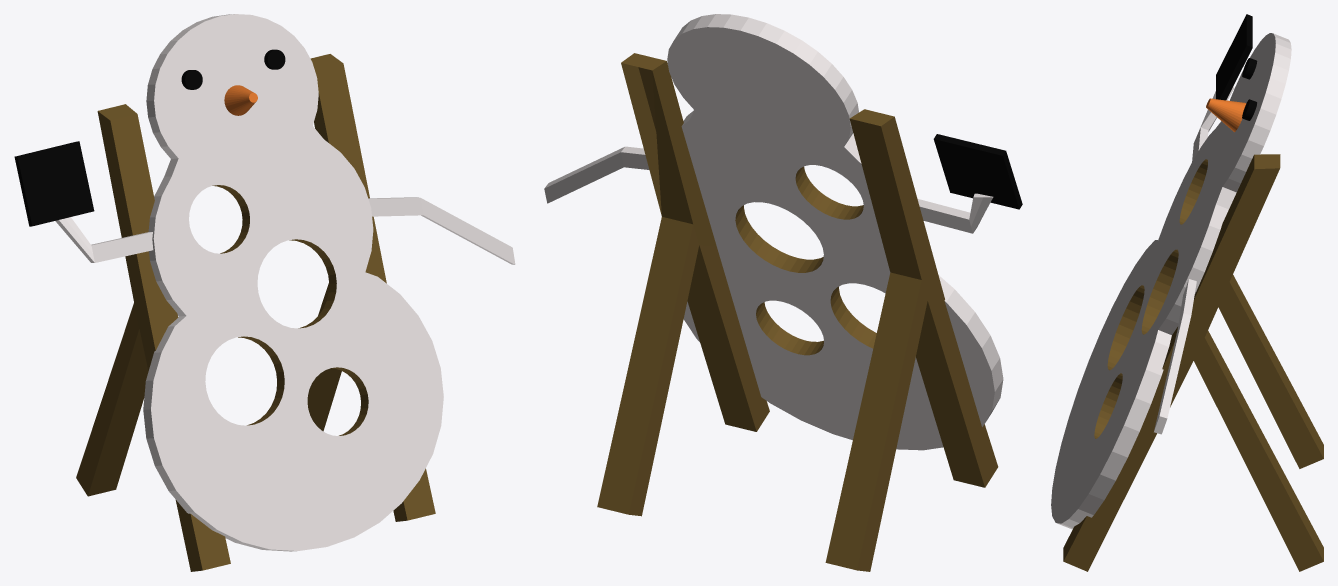
The model's file is snowman.glb.
3 renders of one model, left to right at view 1: azimuth 30°, elevation 25°; view 2: azimuth 150°, elevation 25°; view 3: azimuth 270°, elevation 25°, orthographic. The views are drawn at different scales.
Visible parts, largest first — view 1: Cube, Cube.003, Cube.002, Cube.001, Cone; view 2: Cube, Cube.003, Cube.002, Cube.001; view 3: Cube, Cube.002, Cube.003, Cone, Cube.001.
Boxes of the visible parts, <box> form: Cube: <box>76,14,443,571</box>; Cube.003: <box>14,141,94,226</box>; Cube.002: <box>368,197,515,264</box>; Cube.001: <box>55,217,153,262</box>; Cone: <box>224,85,257,115</box>; Cube: <box>597,14,1003,571</box>; Cube.003: <box>933,134,1022,209</box>; Cube.002: <box>544,146,649,203</box>; Cube.001: <box>917,193,993,233</box>; Cube: <box>1051,33,1323,571</box>; Cube.002: <box>1154,279,1196,434</box>; Cube.003: <box>1216,14,1252,100</box>; Cone: <box>1206,98,1246,132</box>; Cube.001: <box>1192,86,1234,161</box>.
Bounding box in the file's own units: 4.37 × 4.24 × 2.22.
